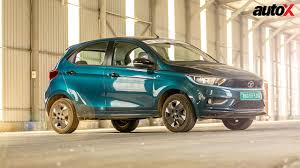Tiago: (42, 31, 269, 137)
